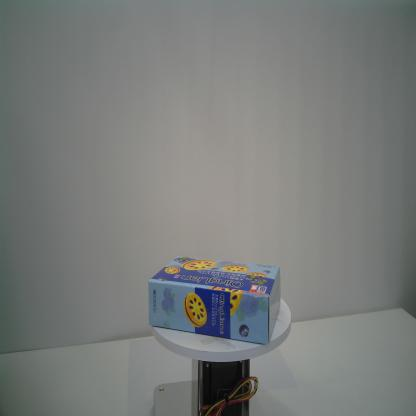Dessert: (148, 255, 283, 346)
